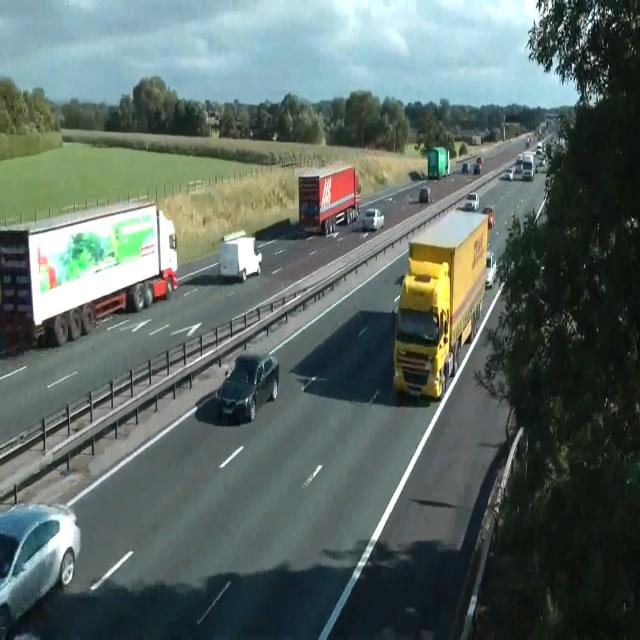bus: (0, 500, 81, 636), (361, 208, 384, 231), (485, 251, 497, 288), (482, 206, 495, 228), (350, 213, 364, 231), (419, 186, 431, 203), (505, 166, 513, 180), (535, 142, 543, 155), (462, 162, 470, 173), (473, 164, 481, 174), (526, 135, 532, 147), (477, 156, 483, 167), (516, 153, 522, 162)
jeep: (215, 349, 279, 423), (463, 191, 479, 211), (462, 161, 481, 174)
minibus: (0, 200, 178, 352), (392, 209, 490, 401), (298, 164, 360, 237), (219, 229, 262, 282), (455, 192, 495, 229), (426, 146, 450, 180), (521, 151, 535, 181)
